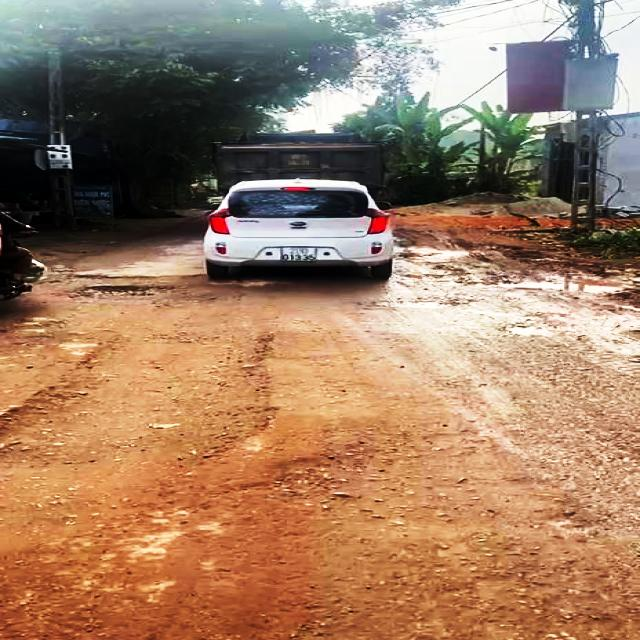pothole: (3, 326, 291, 466), (72, 282, 166, 300), (370, 294, 462, 312), (503, 323, 556, 336)
